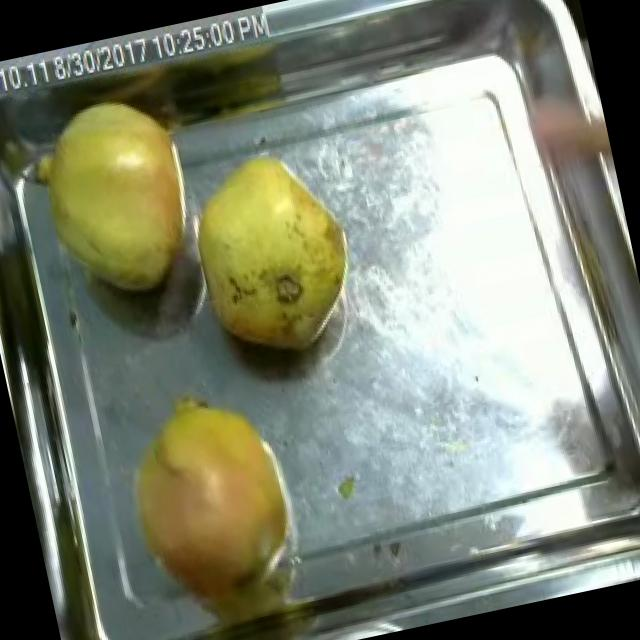fruit: (94, 364, 330, 640), (167, 122, 376, 378), (10, 79, 222, 324)
